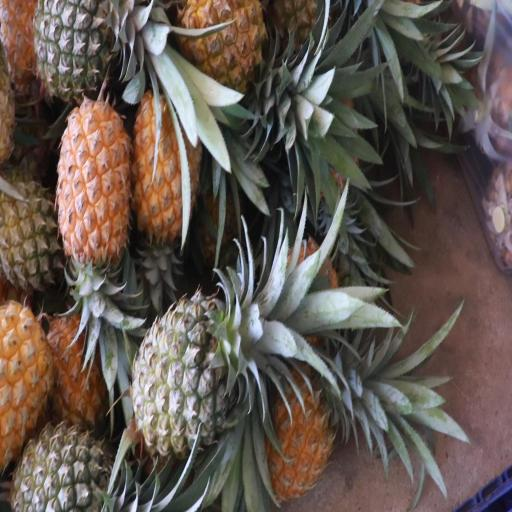Pineapple - v8 v1: (56, 101, 128, 314), (129, 83, 200, 246), (0, 302, 53, 469)
